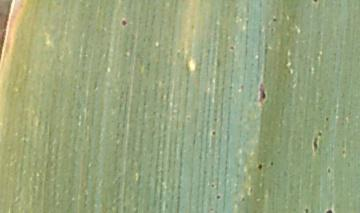tarspot: (259, 84, 266, 103), (313, 138, 318, 153), (229, 44, 235, 51), (258, 163, 263, 171), (121, 20, 127, 26), (326, 208, 333, 213), (269, 161, 274, 168), (326, 167, 331, 174), (272, 17, 277, 23), (216, 194, 221, 199), (325, 117, 330, 122), (318, 131, 322, 137), (311, 1, 319, 4), (212, 130, 216, 135), (305, 208, 308, 213)
